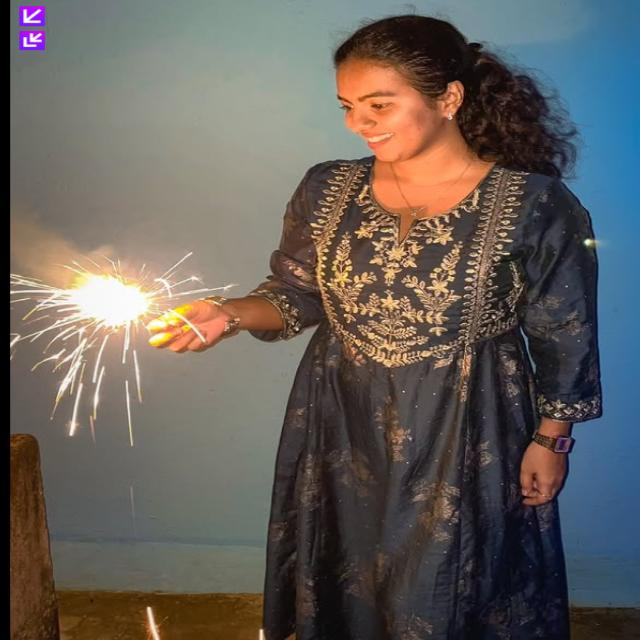fire: (69, 273, 155, 324)
